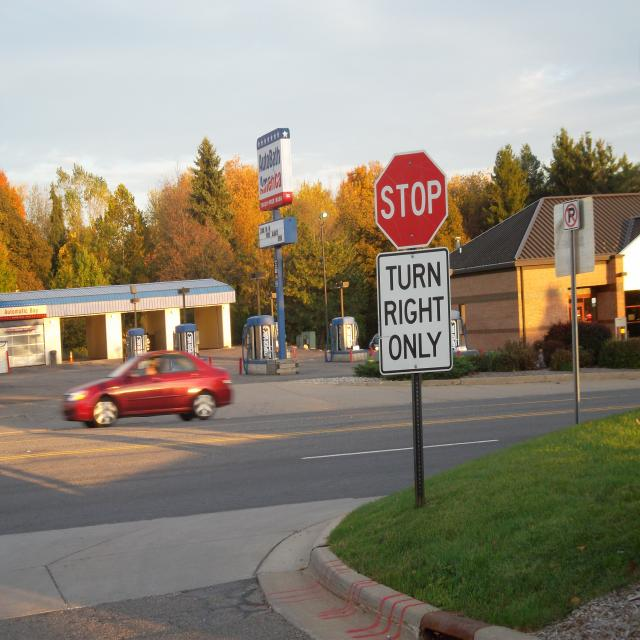regulatory: (374, 247, 453, 377), (563, 199, 579, 231)
stop: (374, 150, 449, 250)
